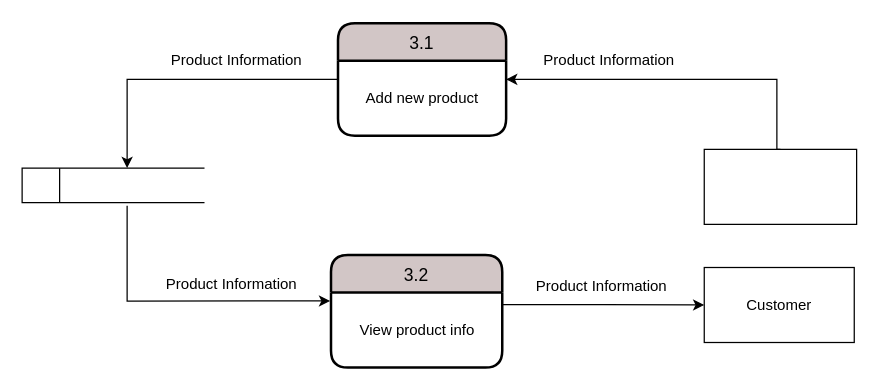
Image size: 879x390. Some labels were removed from this diagram. The shapes that lost their labels are listed below. From the top down, each one's centre as x and y in pixels, then its label:
At point 112,184: "Product Details".
At point 780,186: "Seller".
